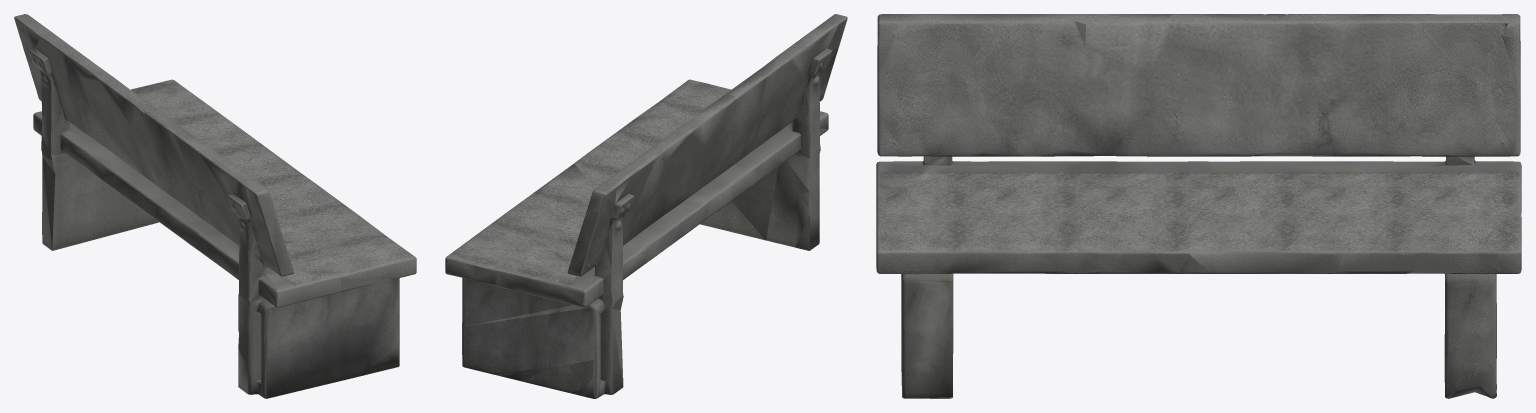
File: banco-de-praca-concreto__01a1b60e.glb
The picture shows the model from 3 angles, left to right: view 1: azimuth 30°, elevation 25°; view 2: azimuth 150°, elevation 25°; view 3: azimuth 270°, elevation 25°; orthographic projection. The views are drawn at different scales.
Parts seen in each view (by area): view 1: banco-de-praca-concreto__01a1b60e; view 2: banco-de-praca-concreto__01a1b60e; view 3: banco-de-praca-concreto__01a1b60e.
Boxes of the visible parts, <box> form: banco-de-praca-concreto__01a1b60e: <box>14,14,416,398</box>; banco-de-praca-concreto__01a1b60e: <box>445,14,847,398</box>; banco-de-praca-concreto__01a1b60e: <box>876,14,1521,398</box>.
Size of the model in its own units: 0.6203 by 0.8 by 1.63.
1 material, 1 textured.
